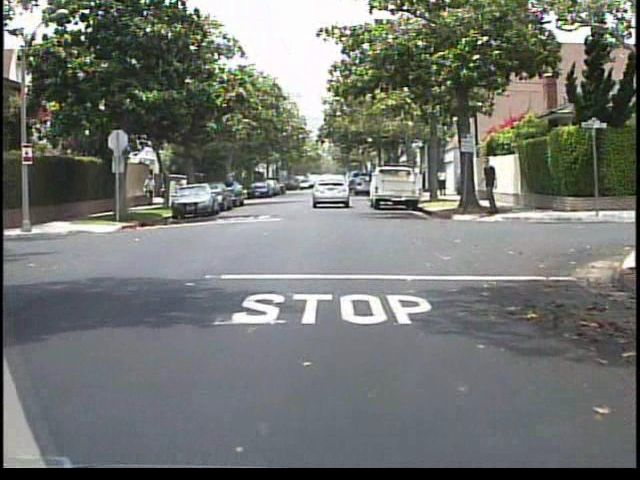person: (476, 156, 505, 218), (142, 174, 162, 207), (433, 163, 449, 200), (175, 174, 192, 205)
